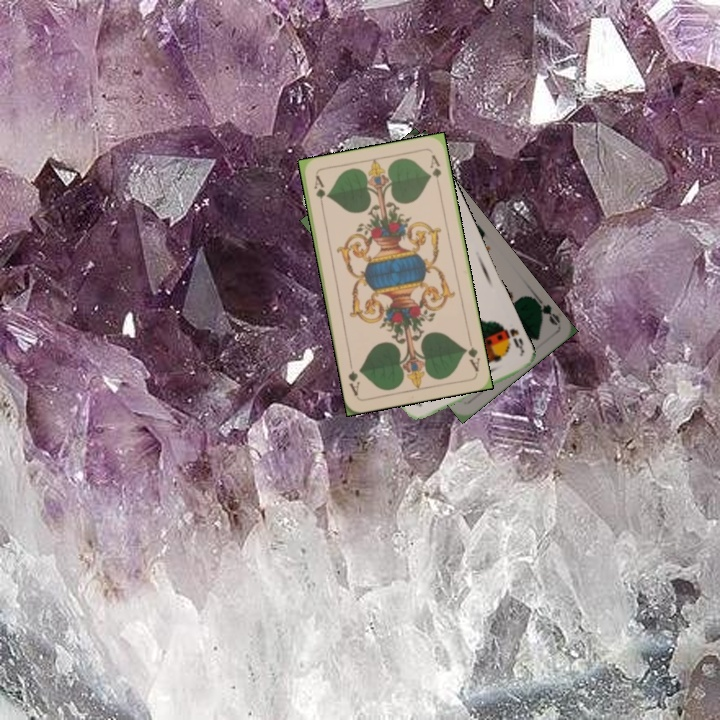GA: (460, 334, 483, 374), (310, 171, 328, 212)
GO: (528, 292, 563, 328)
SO: (496, 320, 526, 356)
